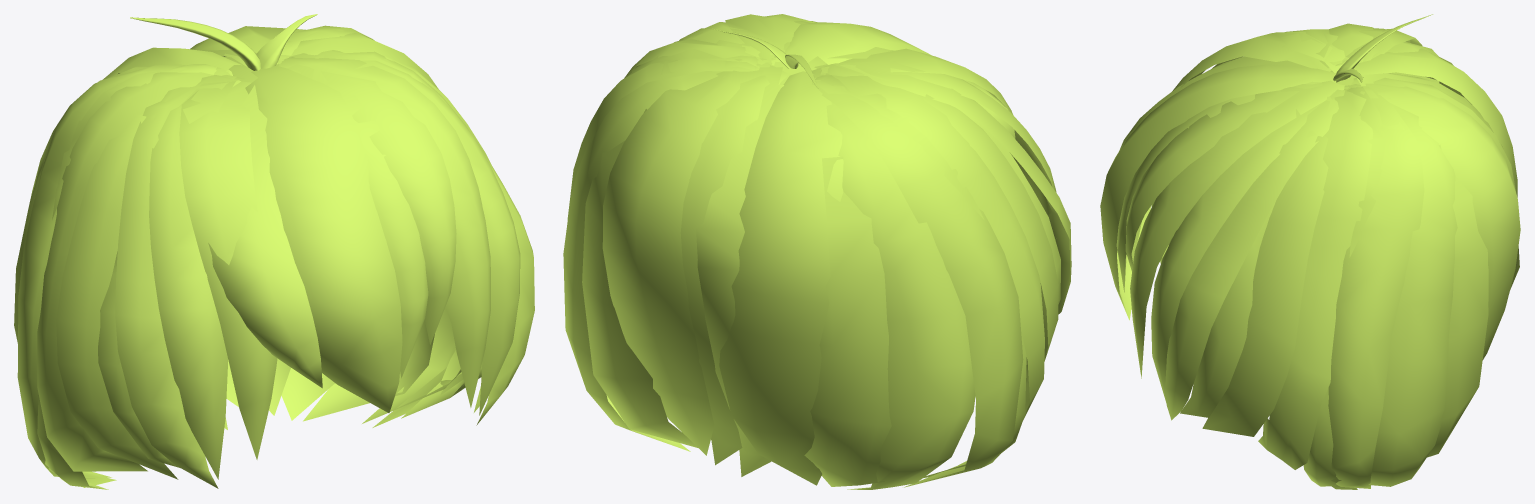
Rendered from hair12.glb.
The picture shows the model from 3 angles, left to right: view 1: azimuth 30°, elevation 25°; view 2: azimuth 150°, elevation 25°; view 3: azimuth 270°, elevation 25°; orthographic projection. The views are drawn at different scales.
Parts seen in each view (by area): view 1: Hair12; view 2: Hair12; view 3: Hair12.
Part boxes in pixels (<box>): Hair12: <box>14,14,534,489</box>; Hair12: <box>563,14,1071,489</box>; Hair12: <box>1100,14,1520,489</box>.
Bounding box in the file's own units: 0.0118 × 0.0106 × 0.0103.
